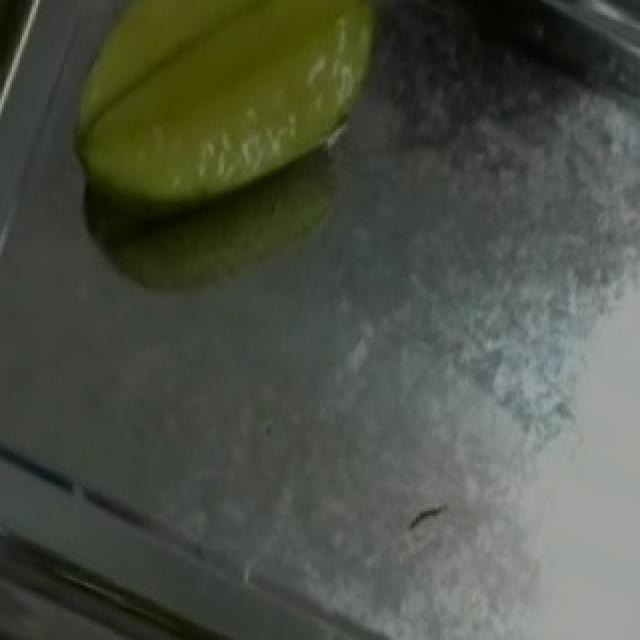fruit: (40, 2, 418, 246)
